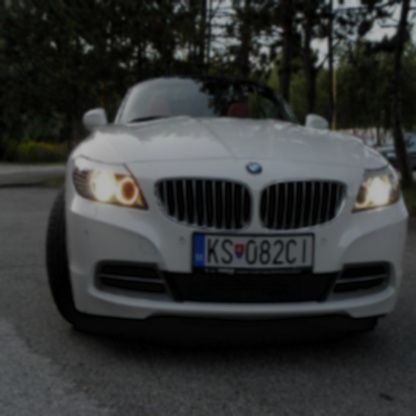Vehicle: (46, 74, 408, 332)
